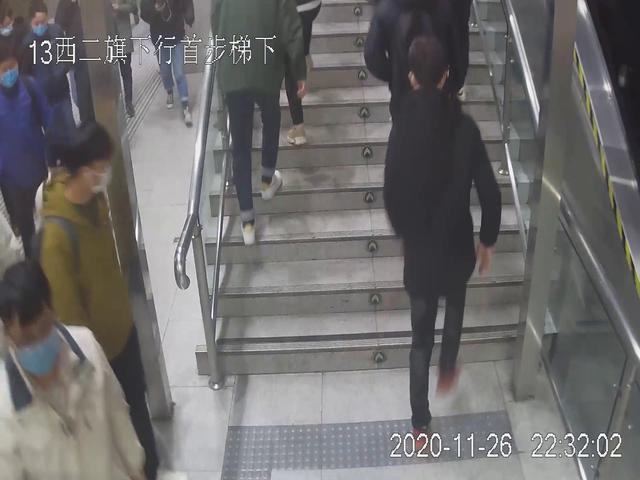person: (29, 116, 185, 480), (383, 30, 500, 457), (1, 256, 151, 480), (208, 1, 314, 253), (1, 48, 65, 257)
